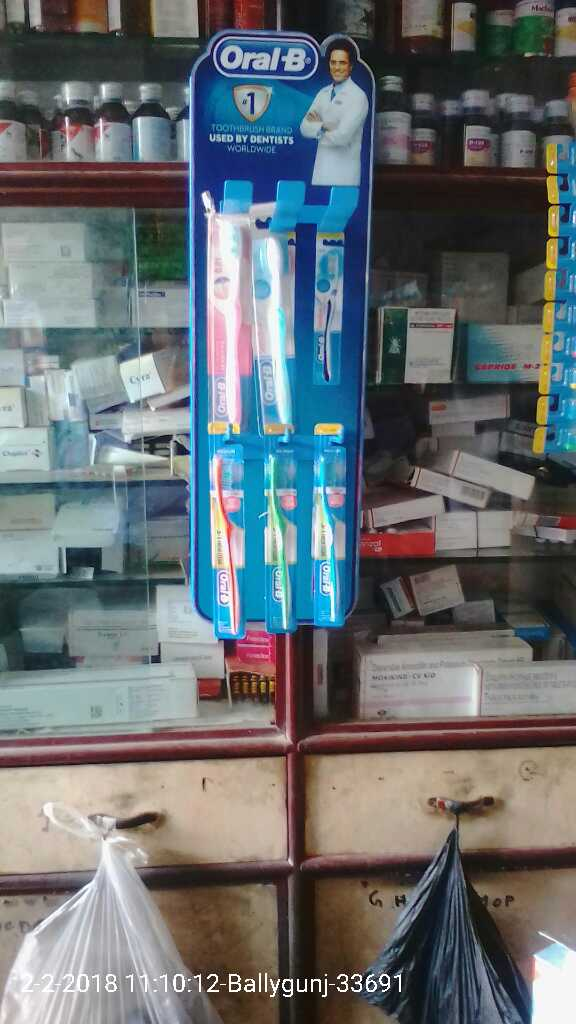oralb: (254, 227, 304, 432), (206, 216, 251, 426), (206, 432, 248, 633), (254, 448, 300, 626), (309, 460, 353, 619)
